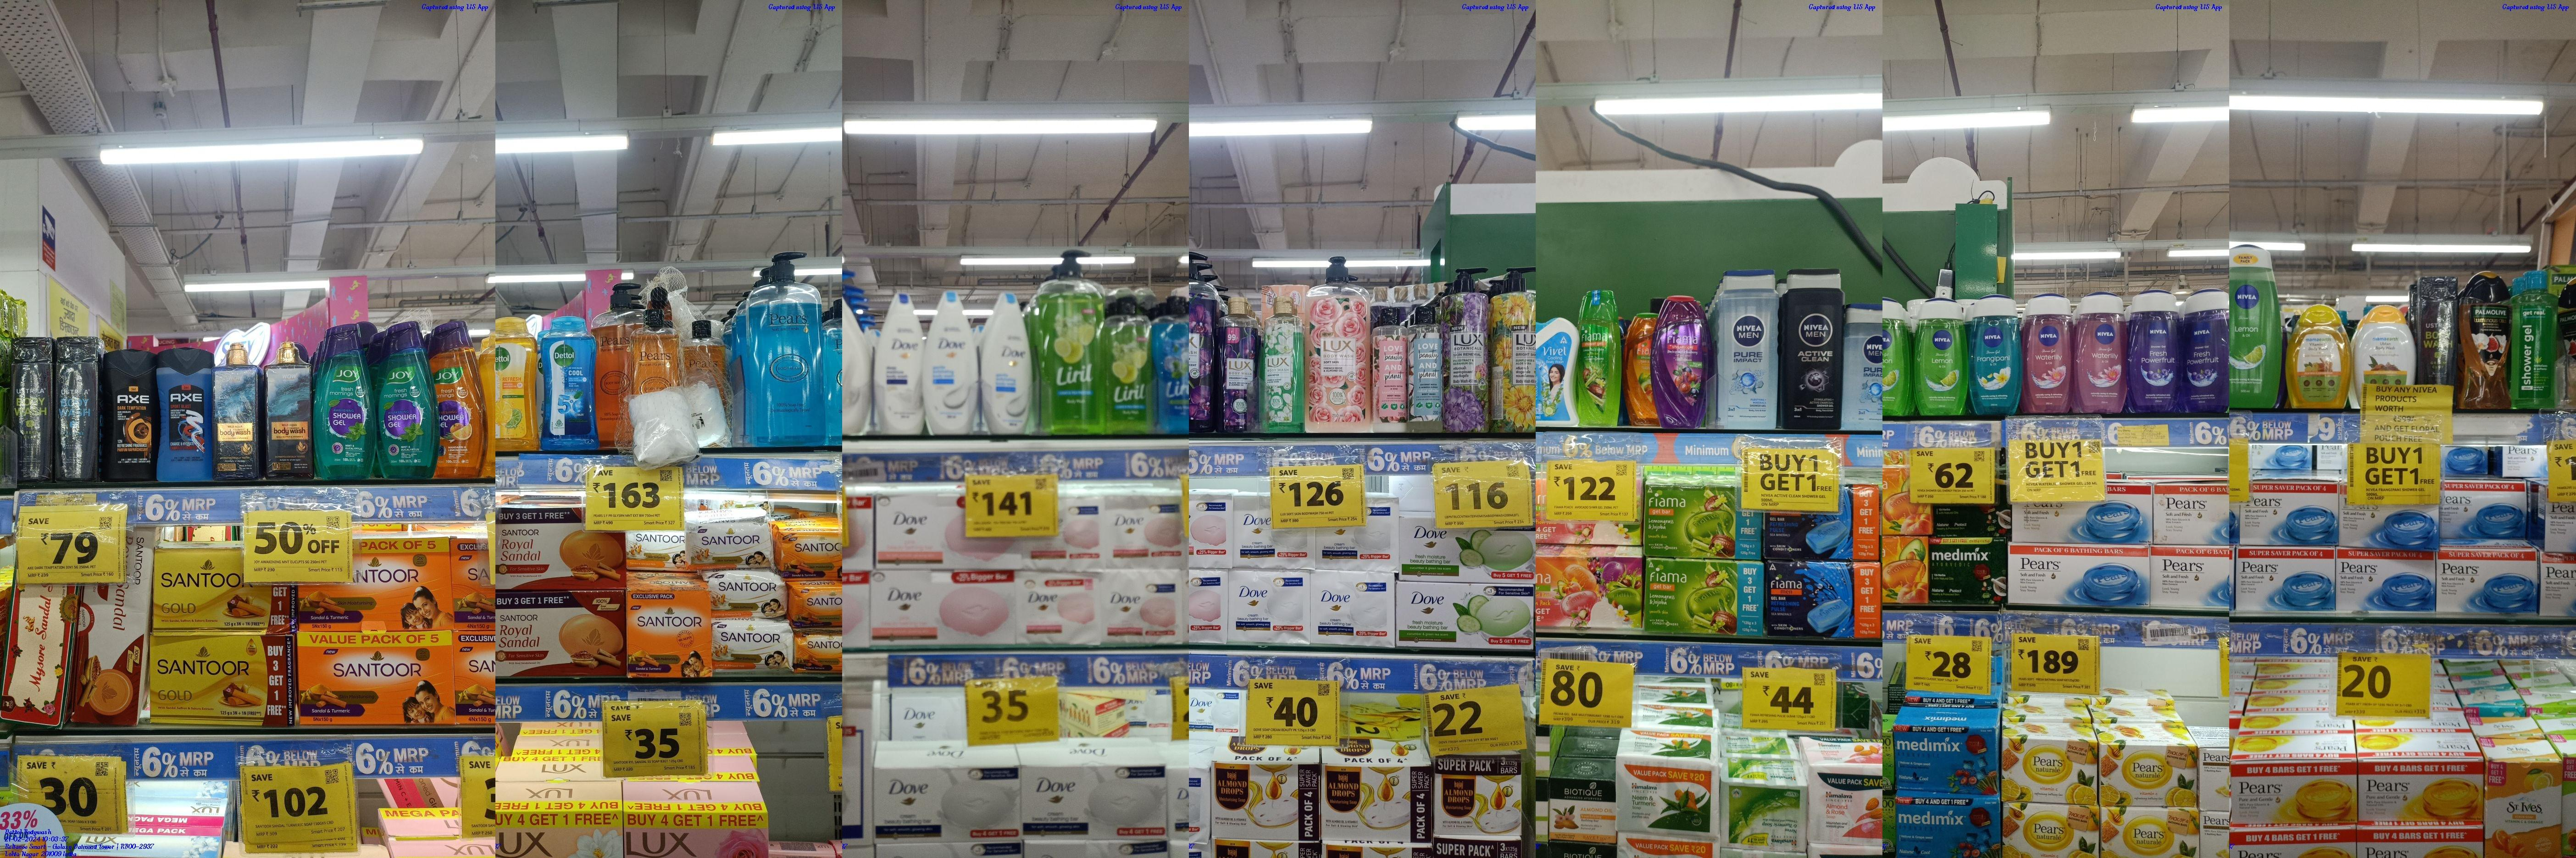Dettol_Bodywash_Cool: (540, 309, 596, 449)
Dettol_Bodywash_Refresh: (496, 317, 537, 454)
Dove_Deep_Moisture_Body_Wash_250ML: (877, 283, 922, 441)
Dove_Gentle_Exfoliating_Body_Wash_250ML: (927, 283, 979, 432), (984, 298, 1032, 436)
Fiama_Shower_Gel_Lemongrass_and_Jojoba_250ML: (1577, 284, 1618, 429)
Joy_Shower_Gel_Mandarin_and_Lemongrass_250ML: (440, 322, 483, 477)
Joy_Shower_Gel_Mint_and_Eucalyptus_250ML: (378, 324, 437, 475), (312, 330, 373, 475)
Liril_Cooling_Mint_Body_Wash_250ML: (1155, 298, 1189, 432)
Liril_Lime_and_Tea_Tree_Oil_Body_Wash_250ML: (1107, 293, 1153, 431)
Lux_Black_Orchid_Scent_and_Juniper_Oil_Body_Wash_245ML: (1216, 299, 1260, 434)
Lux_Body_Wash_Skin_Detox_Freesia_Scent_and_Alove_Vera_245ML: (1265, 299, 1303, 432)
Nivea_Shower_Gel_Frangipani_and_Oil_250ML: (1971, 293, 2021, 414)
Nivea_Shower_Gel_Lemon_and_Oil_250ML: (2231, 245, 2279, 408), (1911, 299, 1968, 416)
Nivea_Shower_Gel_Waterlily_and_Oil_250ML: (2129, 293, 2183, 419), (2077, 293, 2126, 411), (2026, 298, 2070, 414), (2187, 289, 2228, 411)
Palmolive_Luminous_Oils_With_White_Orchid_Shower_Gel_250ML: (2463, 268, 2509, 406)
